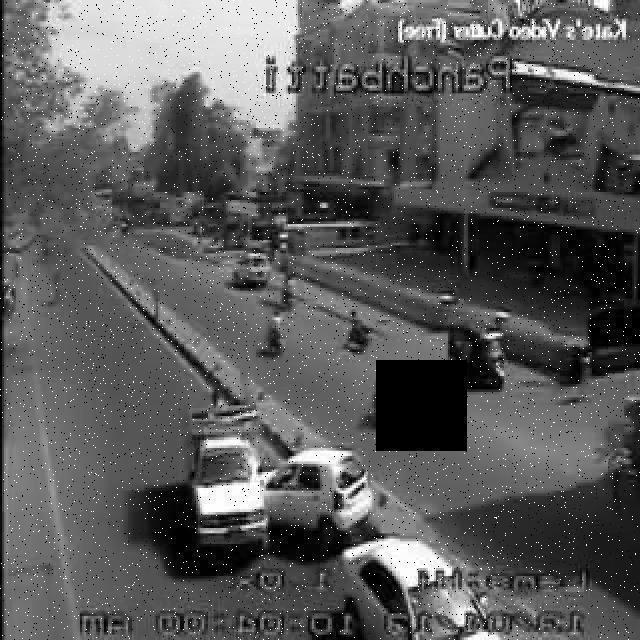accident: (186, 402, 378, 554)
